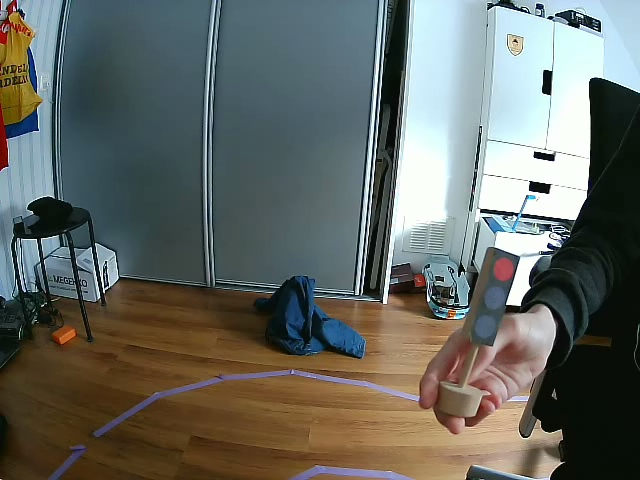roodlicht: (467, 250, 522, 342)
